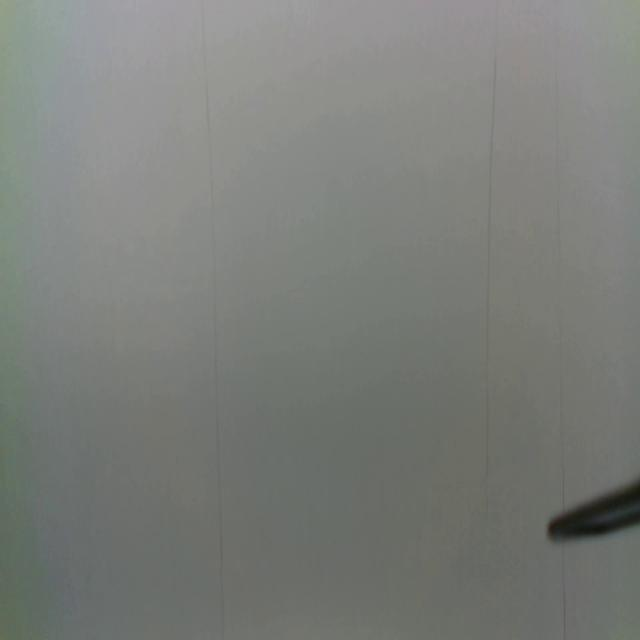crease: (199, 0, 224, 638), (484, 52, 499, 520), (552, 61, 567, 504), (560, 547, 567, 640)
